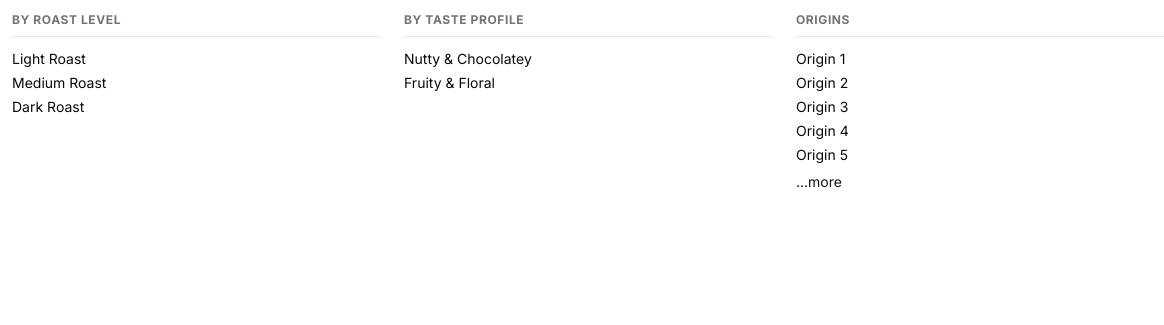
Test: CategoryMenuColumns › Expand/Collapse Functionality › expands to show all categories when '...more' is clicked
Check: the text "Origin 6" is not shown
Click the button with aria-label "Show more categories in ORIGINS". click: (819, 182)
box: [796,172,842,192]
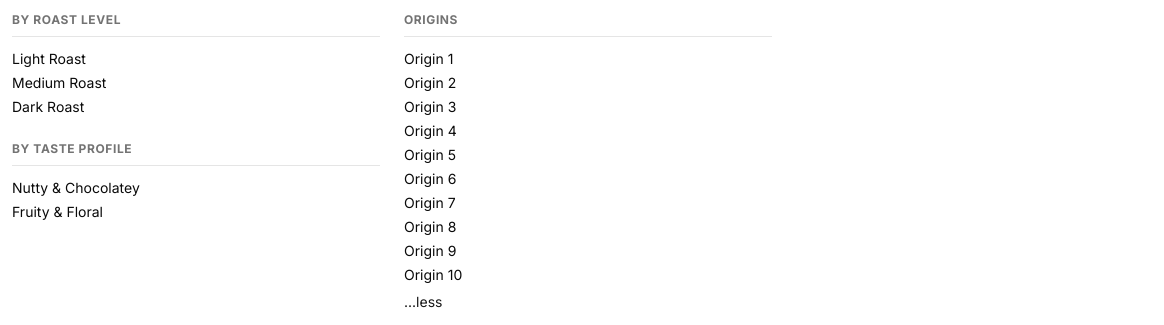
Check: the link "Origin 6" is shown, box [404,170,456,187]
Check: the link "Origin 10" is shown, box [404,266,462,283]
